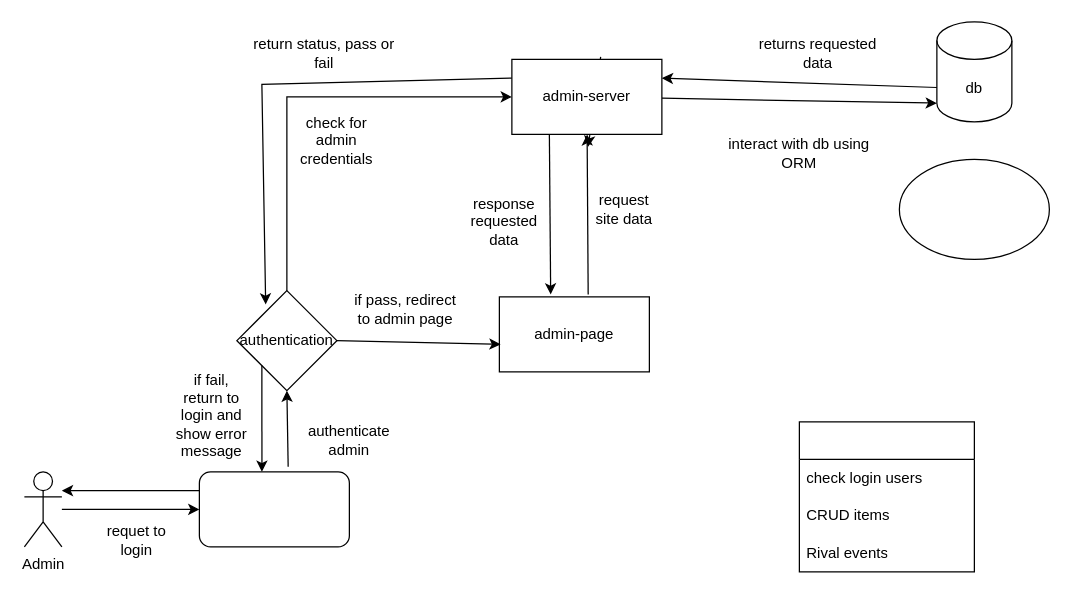
Some shapes in this 1071 by 595 pixel diagram are drawn without their labels. The shapes that lost their labels are listed below. From the top down, each one's box as (x1, y1, x2, y2) in pixels, then its label:
(898, 158, 1049, 259): prisma ORM
(198, 471, 349, 547): Admin Login
(798, 421, 974, 572): Admin access
